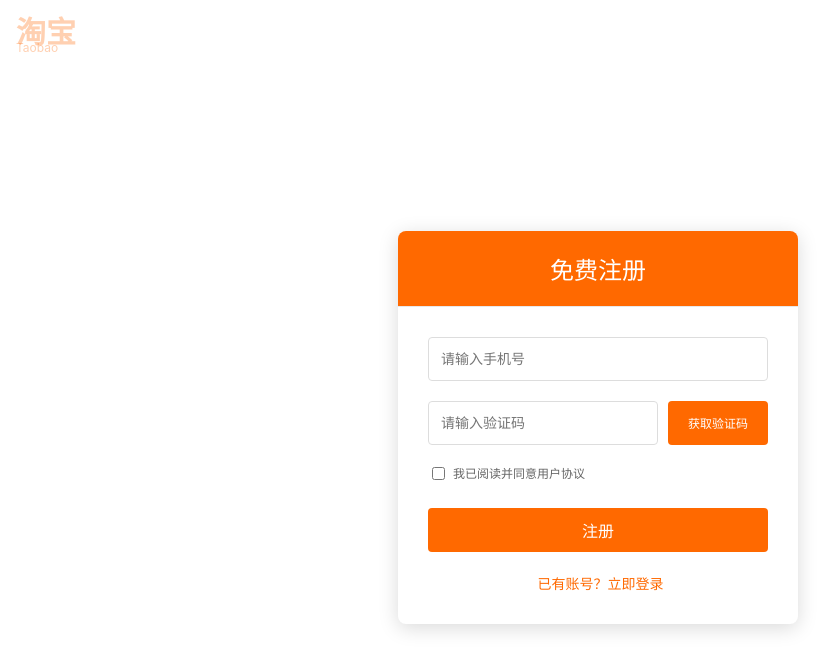
Test case: RegisterForm › 注册时应该显示加载状态，按钮变为不可点击
Type "13800138000" into the field with placeholder "请输入手机号" at (598, 358), box [428, 336, 768, 380]
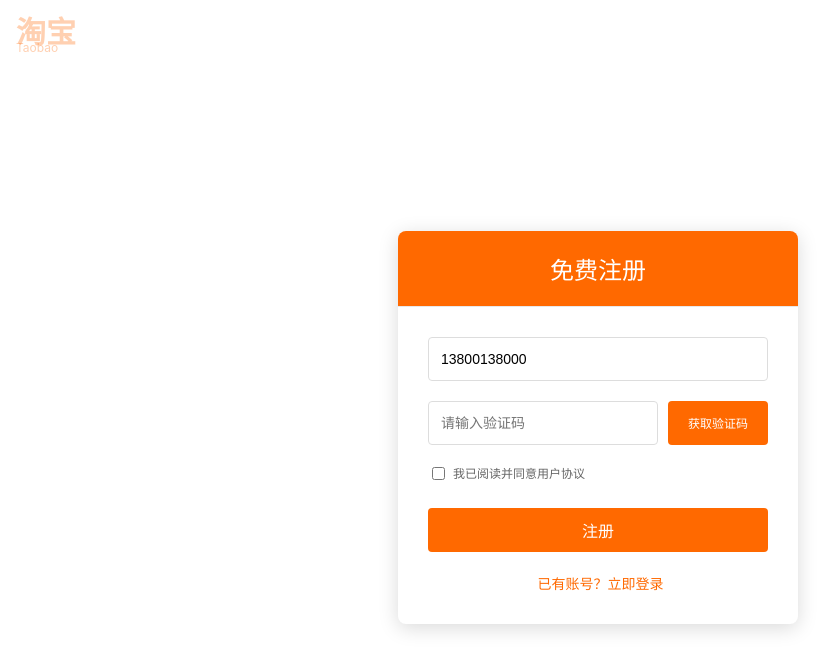
Type "123456" into the field with placeholder "请输入验证码" at (543, 422), box [428, 400, 658, 444]
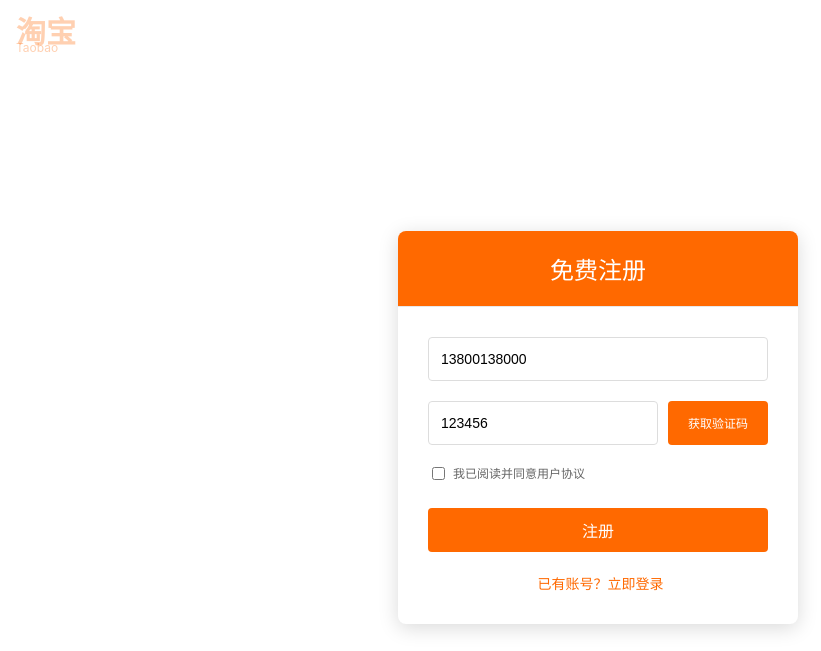
Click the checkbox at (438, 473), box [432, 466, 445, 480]
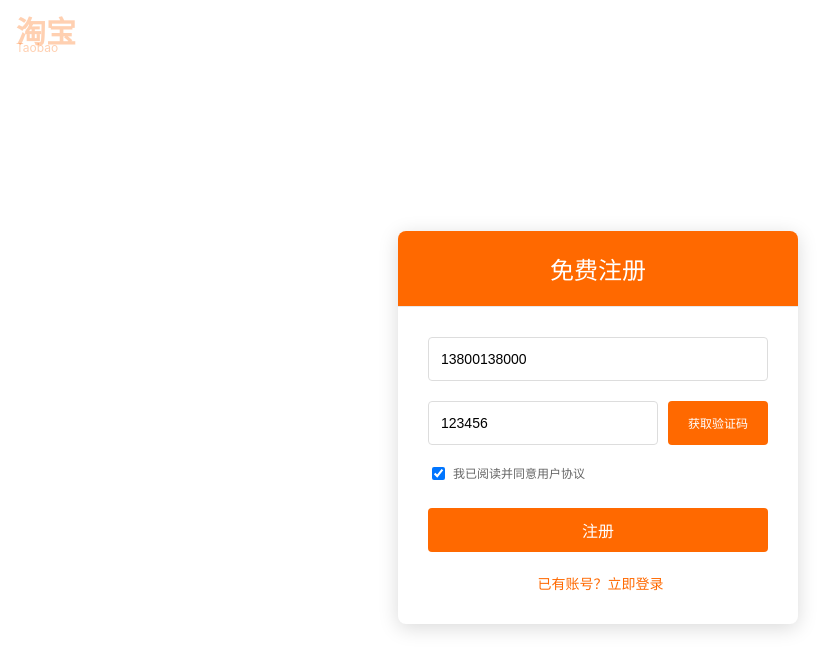
Click the button "注册" at (598, 530), box [428, 508, 768, 552]
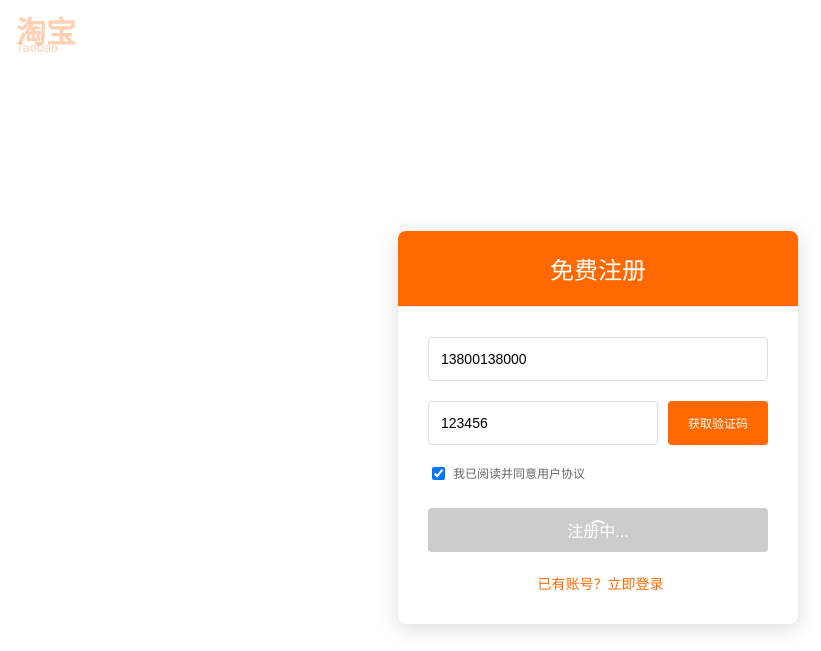
expect the button "注册中..." is disabled: met, box [428, 508, 768, 552]
